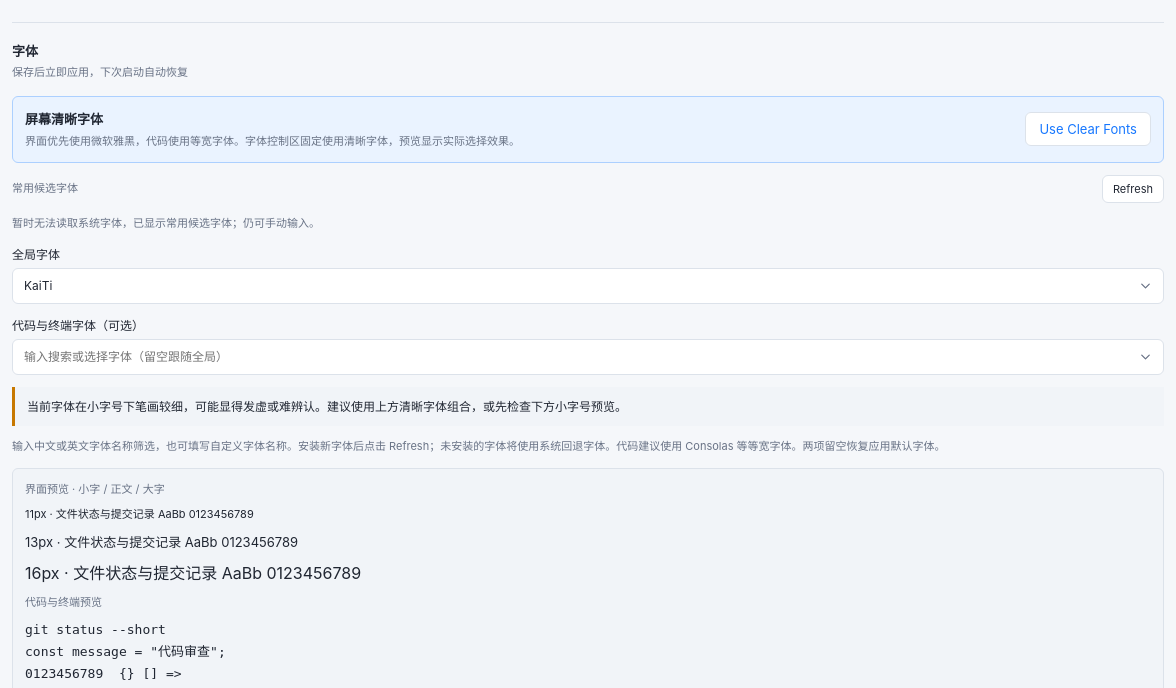
it: installed font selection › preserves the selected font when clear-font saving fails and can retry without installed families
The image size is (1176, 688).
Click the button with aria-label "使用清晰字体" at (1088, 129), box left=1025, top=112, right=1151, bottom=146
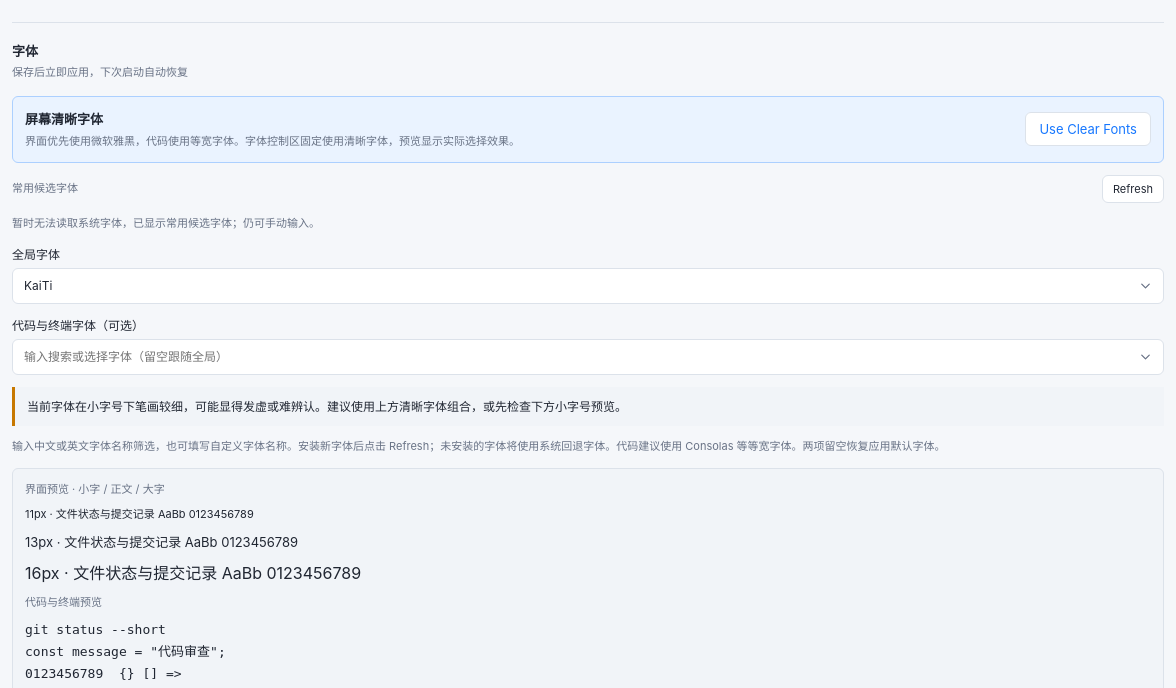
Click the button with aria-label "使用清晰字体" at (1088, 129), box left=1025, top=112, right=1151, bottom=146
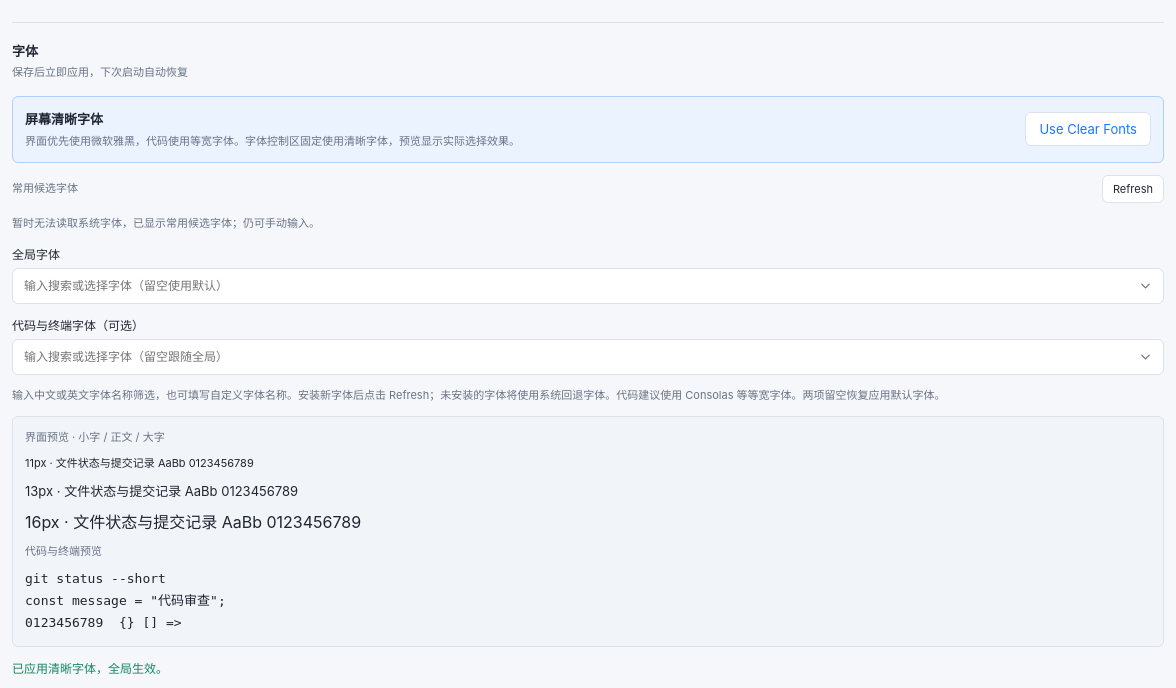
Now the text "已应用清晰字体" is shown, box left=12, top=661, right=168, bottom=676
